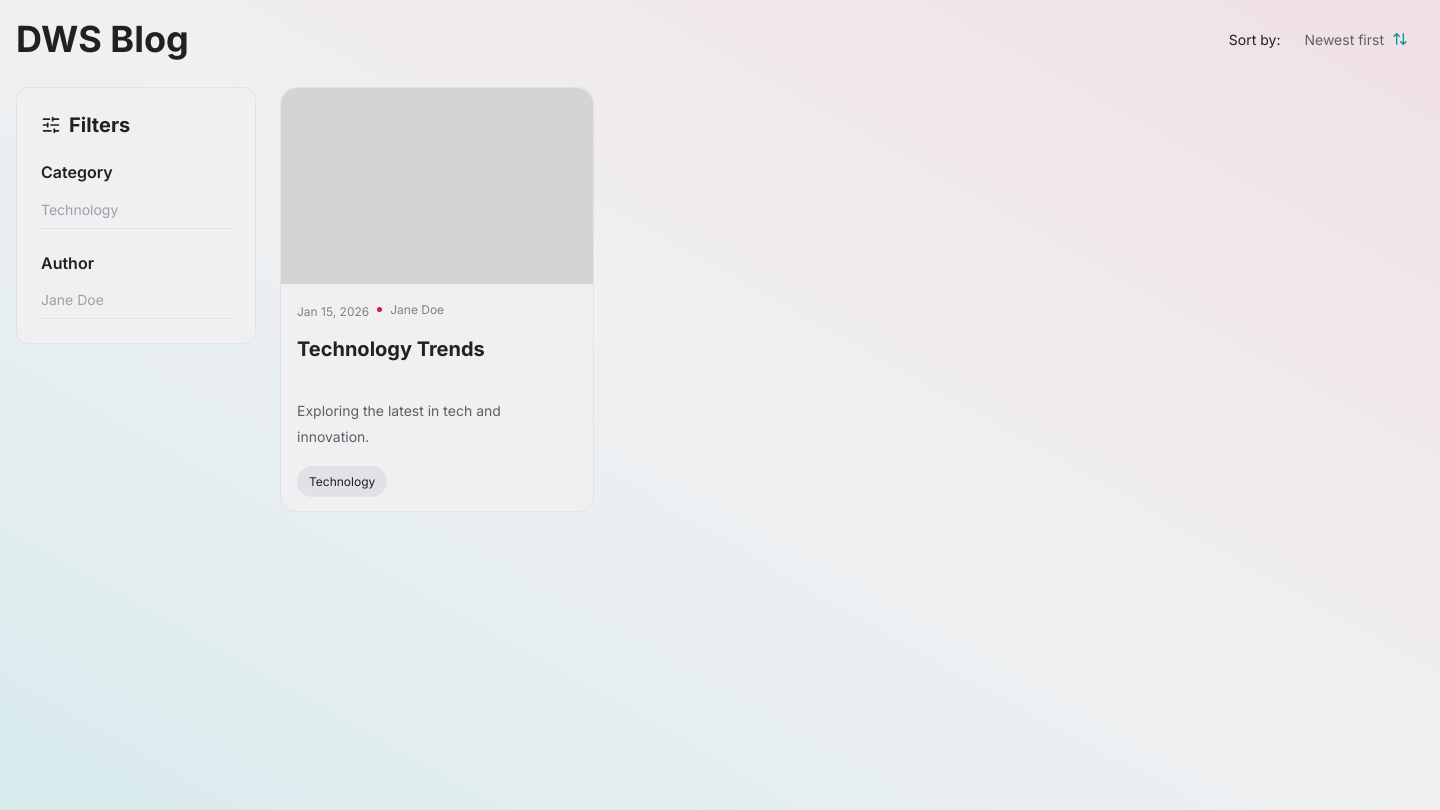
it: Home › toggles category filter on sidebar click
This screenshot has width=1440, height=810.
Click the button "Technology".
click(136, 210)  # box [41,191,231,229]
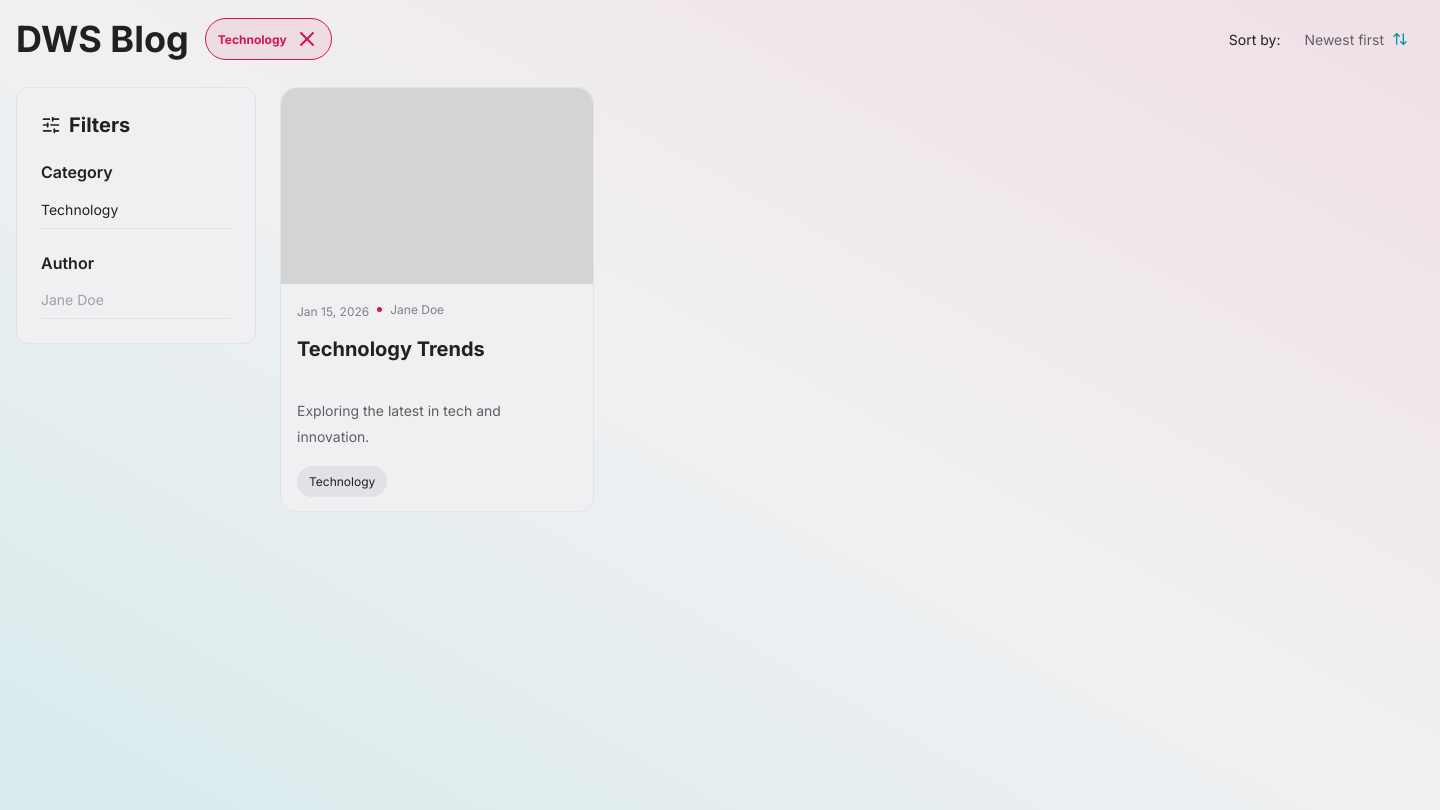
expect the button named "Clean selection" is shown: met, box [295,27,319,51]
